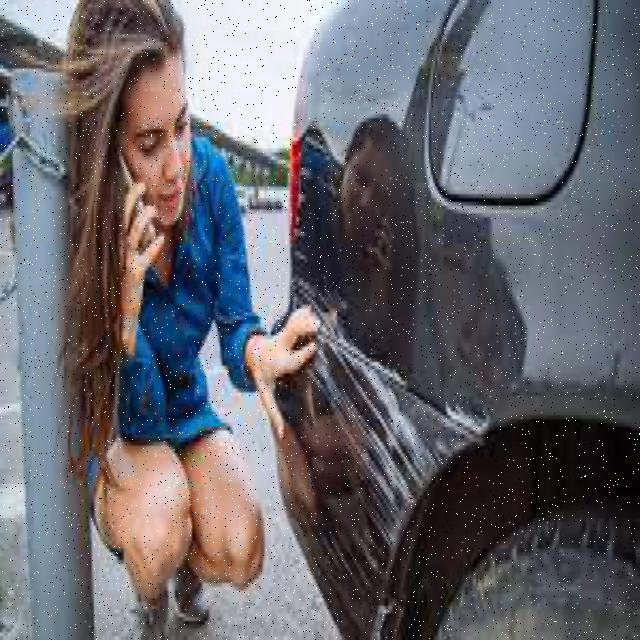rear-bumper-dent: (243, 297, 482, 636)
